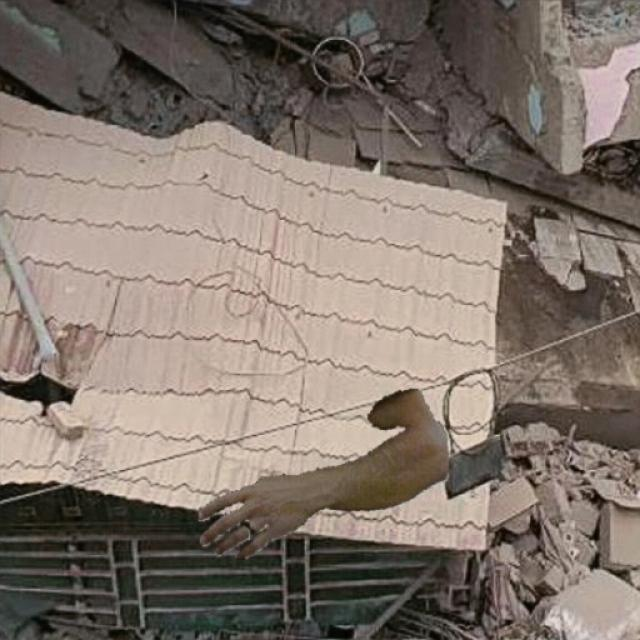Person in Rubble: (198, 389, 448, 559)
